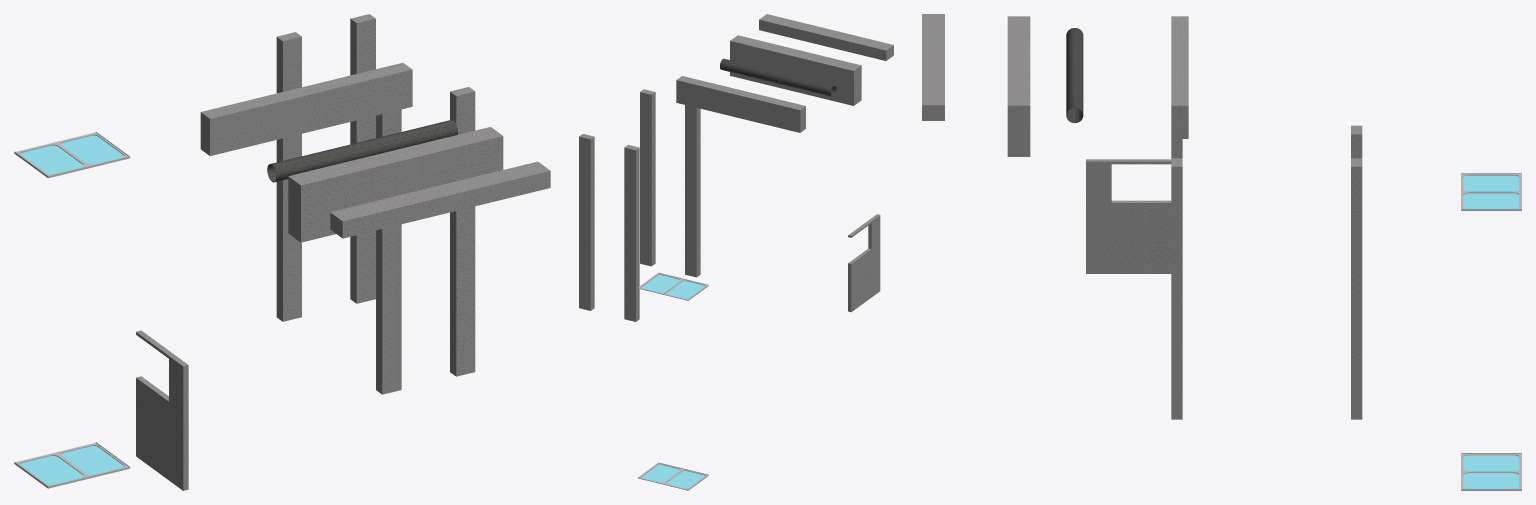
The picture shows the model from 3 angles, left to right: view 1: azimuth 30°, elevation 25°; view 2: azimuth 150°, elevation 25°; view 3: azimuth 270°, elevation 25°; orthographic projection. The views are drawn at different scales.
Visible parts, largest first — view 1: 0_3_1_2_1_1; view 2: 0_3_1_2_1_1; view 3: 0_3_1_2_1_1.
Part boxes in pixels (<box>): 0_3_1_2_1_1: <box>14,14,550,490</box>; 0_3_1_2_1_1: <box>579,14,893,490</box>; 0_3_1_2_1_1: <box>922,14,1521,490</box>.
Bounding box in the file's own units: 12.41 × 17 × 21.05.
Materials: 14 (10 with a texture image).
